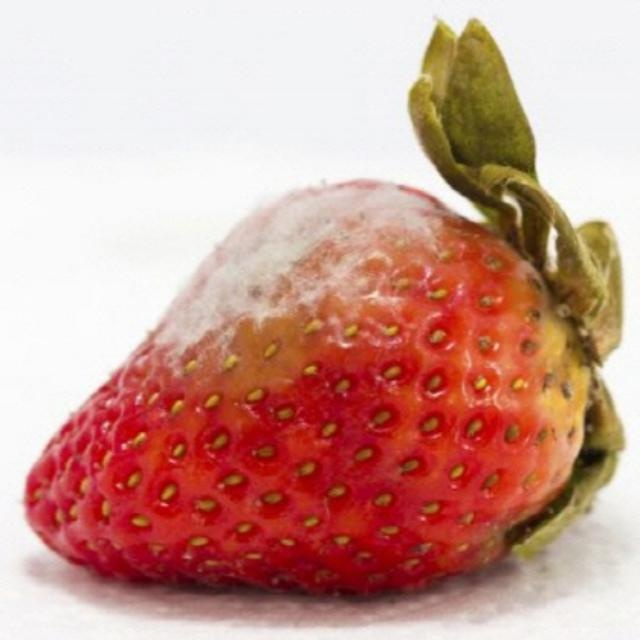Powdery Mildew Fruit: (109, 177, 478, 410)
